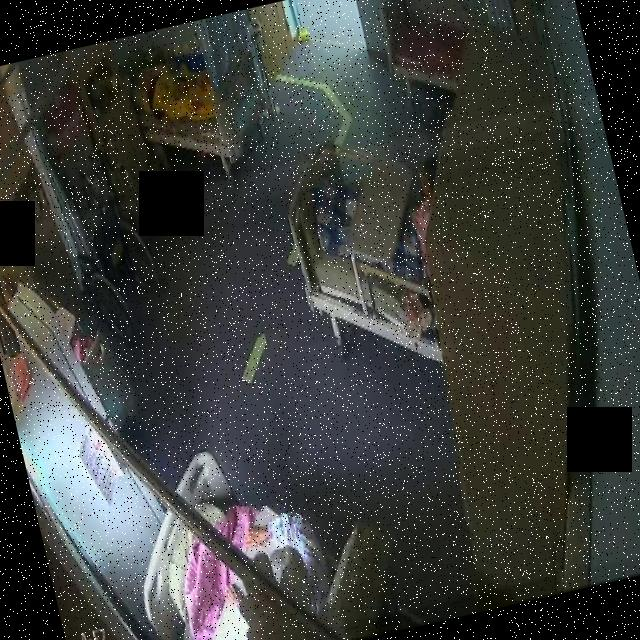bed: (114, 419, 389, 640), (272, 122, 456, 388), (123, 28, 274, 178), (361, 0, 472, 96)
